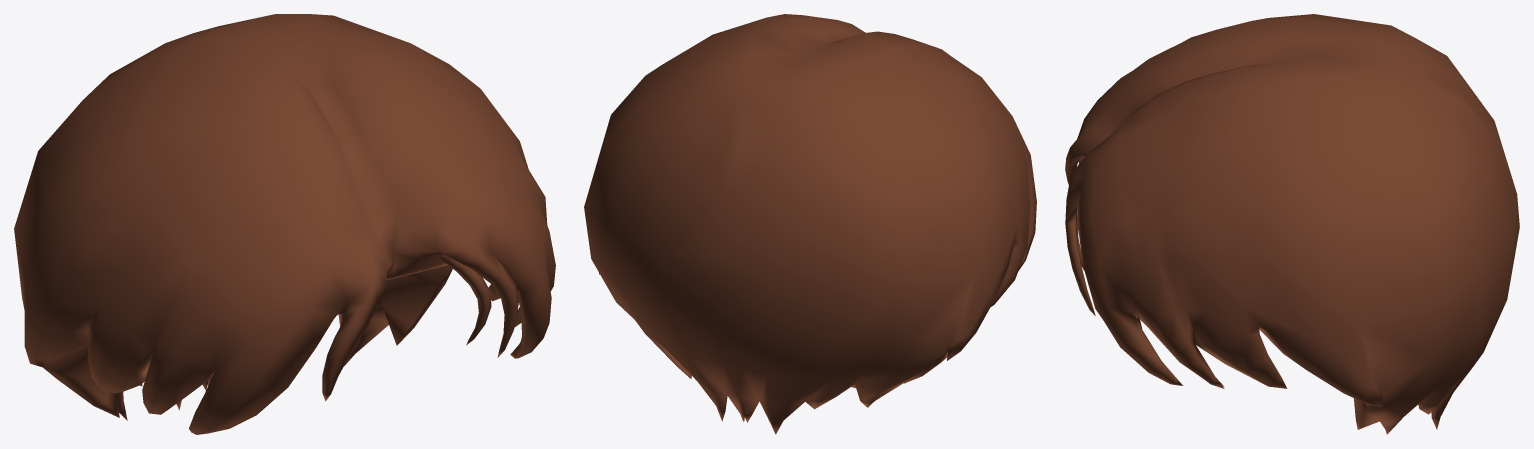
File: NLS_DUO Hairstyle.fbx
The picture shows the model from 3 angles, left to right: view 1: azimuth 30°, elevation 25°; view 2: azimuth 150°, elevation 25°; view 3: azimuth 270°, elevation 25°; orthographic projection. The views are drawn at different scales.
Visible parts, largest first — view 1: NLS_DUO Hairstyle; view 2: NLS_DUO Hairstyle; view 3: NLS_DUO Hairstyle.
Part boxes in pixels (x1,y1,x2,y2): NLS_DUO Hairstyle: (14, 14, 555, 434); NLS_DUO Hairstyle: (584, 14, 1036, 434); NLS_DUO Hairstyle: (1065, 14, 1519, 434).
Size of the model in its own units: 54.4 by 44.67 by 49.77.
